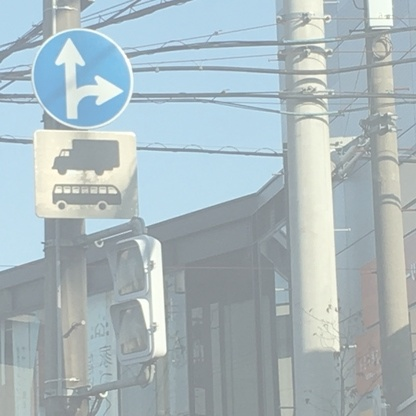Direction_sign: (26, 20, 140, 134)
